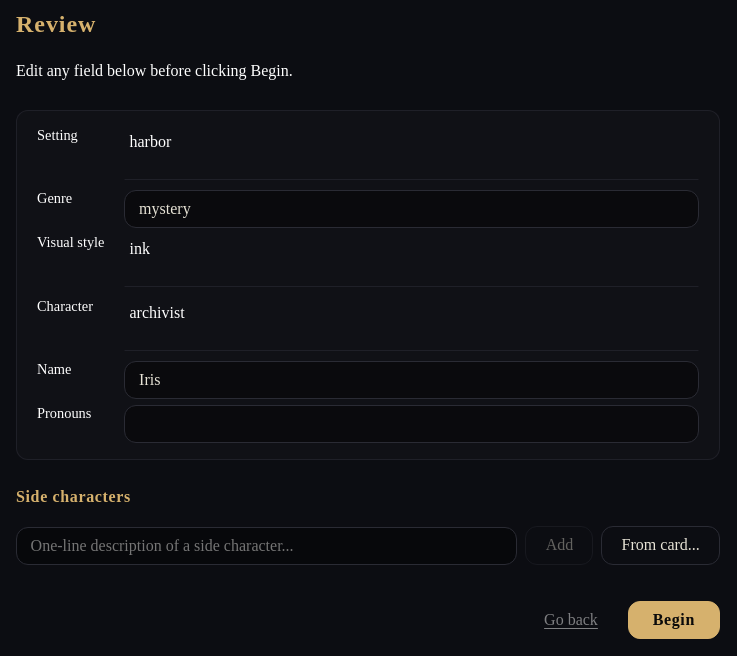
Test: ConfirmStep — editable review fields › locks fields once Begin is clicked
The image size is (737, 656).
Click the button "Begin": {"x": 674, "y": 620} 628,601 -> 720,639
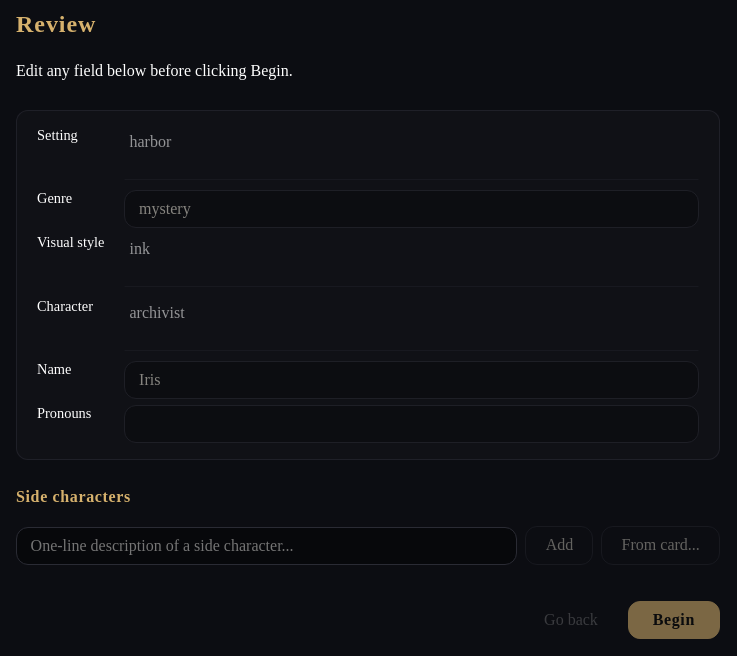
Check: the text box with test id "review-edit-setting" is disabled, box 124,127 -> 699,180
Check: the field with test id "review-edit-genre" is disabled, box 124,190 -> 699,228
Check: the text box with test id "review-edit-visual_style" is disabled, box 124,234 -> 699,287
